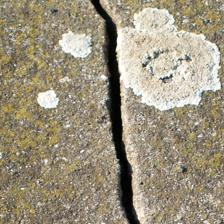Crack: (89, 3, 147, 224)
